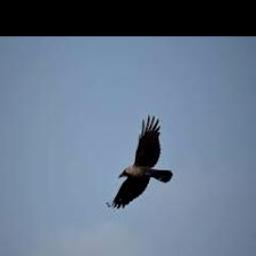Crow: (113, 115, 173, 209)
